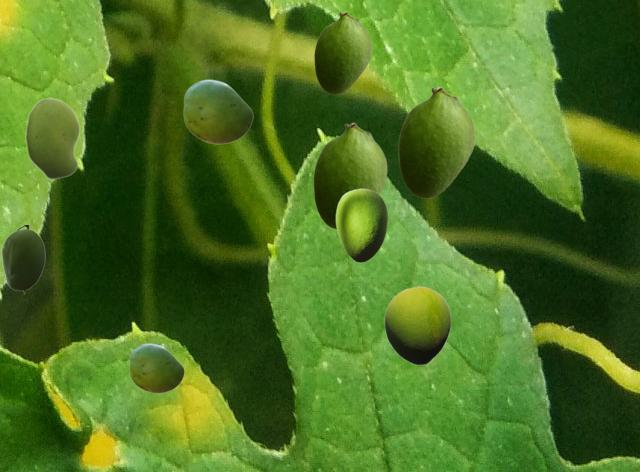green_mango: (398, 86, 474, 197), (313, 122, 386, 228), (384, 286, 450, 364), (314, 11, 371, 93), (25, 97, 79, 179), (183, 79, 252, 143), (335, 188, 387, 261), (1, 225, 44, 293), (129, 343, 183, 392)
